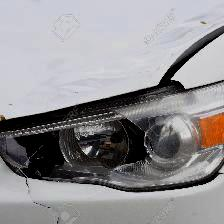head_lamp: (5, 109, 154, 192)
